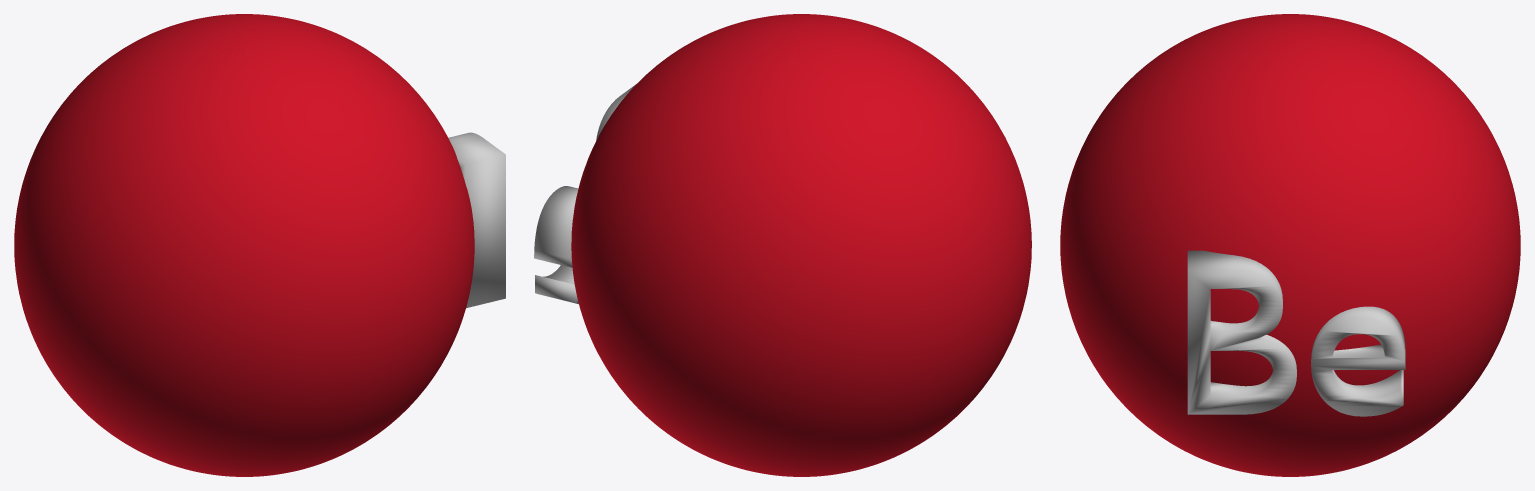
Rendered from Beryllium.obj.
3 renders of one model, left to right at view 1: azimuth 30°, elevation 25°; view 2: azimuth 150°, elevation 25°; view 3: azimuth 270°, elevation 25°, orthographic.
Visible parts, largest first — view 1: Sphere, Text; view 2: Sphere, Text; view 3: Sphere, Text.
Boxes of the visible parts, box(x1,y1,x2,y2) form: Sphere: box(14, 14, 474, 476); Text: box(448, 132, 505, 308); Sphere: box(571, 14, 1031, 476); Text: box(534, 84, 636, 304); Sphere: box(1060, 14, 1520, 476); Text: box(1187, 250, 1405, 416).
Bounding box in the file's own units: 2.03 × 2 × 1.97.
